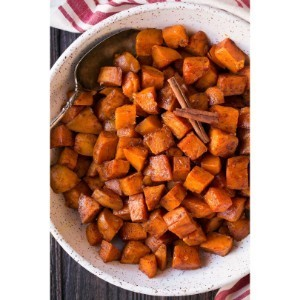sweet potato_brain food: (70, 38, 238, 240)
